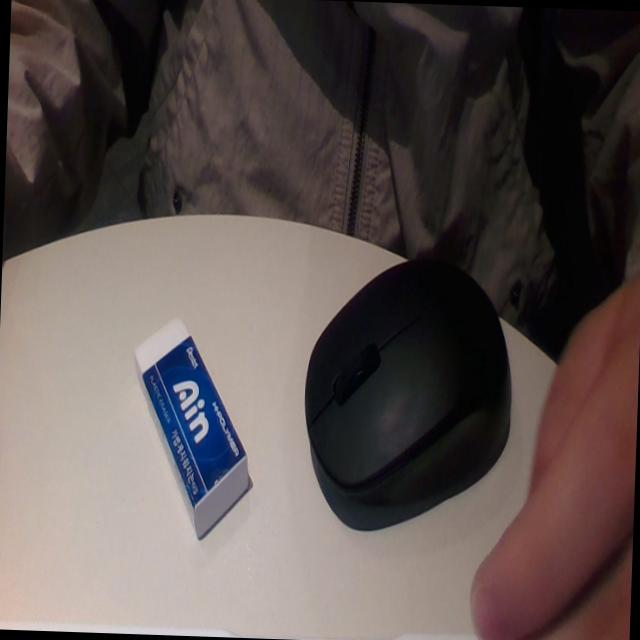eraser: (128, 316, 258, 550)
mouse: (286, 241, 520, 514)
